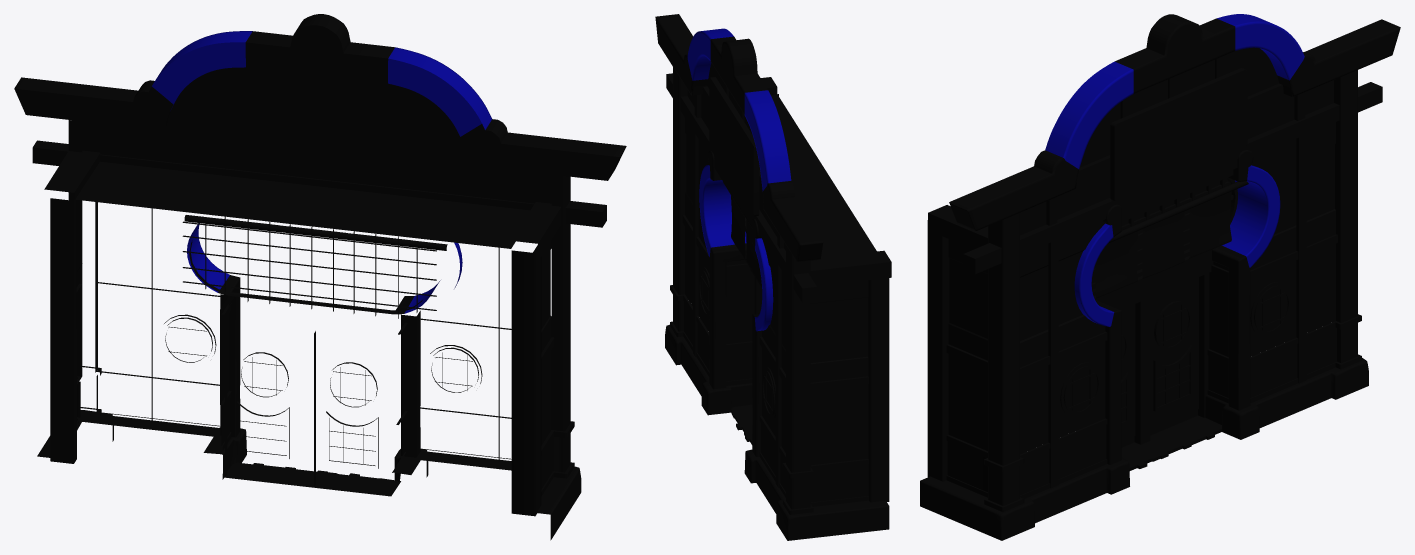
The model's file is SM_ENV_LKNVLD_Shop_Front.gltf.
3 views of the same model, side by side, from view 1: azimuth 30°, elevation 25°; view 2: azimuth 150°, elevation 25°; view 3: azimuth 270°, elevation 25° (orthographic). The views are drawn at different scales.
Visible parts, largest first — view 1: SM_ENV_LKNVLD_Shop_Front; view 2: SM_ENV_LKNVLD_Shop_Front; view 3: SM_ENV_LKNVLD_Shop_Front.
Part boxes in pixels (x1,y1,x2,y2): SM_ENV_LKNVLD_Shop_Front: [14, 14, 626, 540]; SM_ENV_LKNVLD_Shop_Front: [655, 14, 891, 540]; SM_ENV_LKNVLD_Shop_Front: [920, 14, 1400, 540].
Size of the model in its own units: 8.9 by 8.98 by 8.9.
